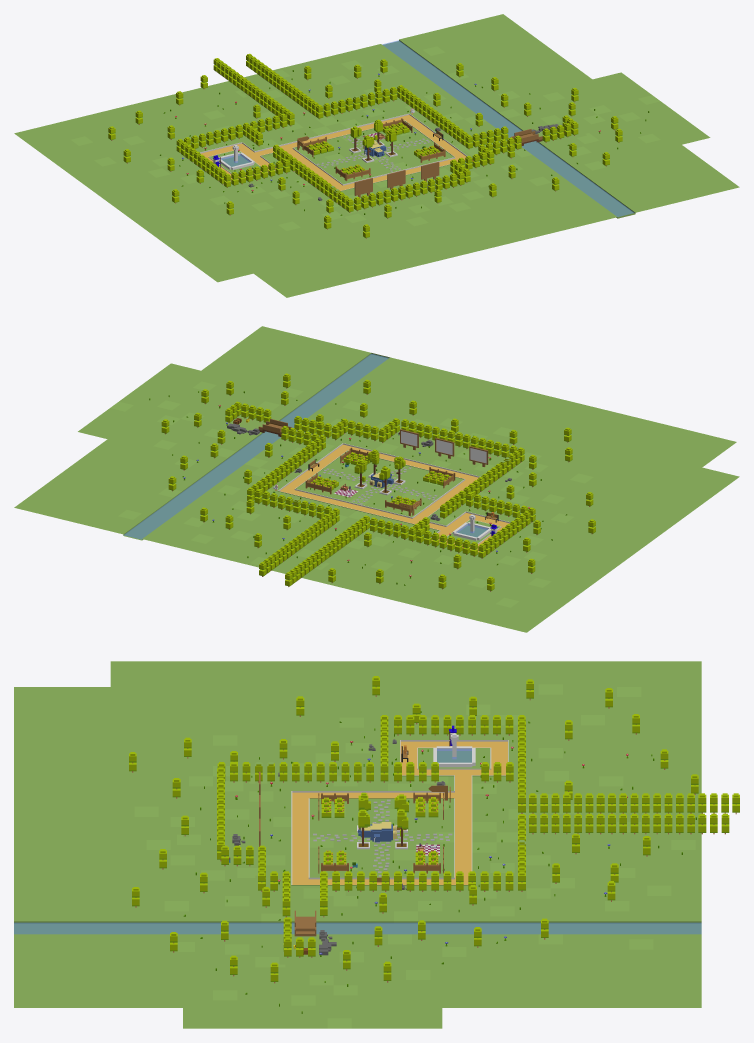
File: Portfolio-map-Snorlax.glb
3 renders of one model, top to bottom at view 1: azimuth 30°, elevation 25°; view 2: azimuth 150°, elevation 25°; view 3: azimuth 270°, elevation 25°, orthographic. The views are drawn at different scales.
Visible parts, largest first — view 1: Level; view 2: Level; view 3: Level, Snorlax.
Boxes of the visible parts, box(x1,y1,x2,y2) form: Level: box(14, 14, 739, 297); Level: box(14, 326, 739, 632); Level: box(14, 661, 739, 1028); Snorlax: box(358, 822, 396, 842).
Bounding box in the file's own units: 310 × 15.62 × 259.
